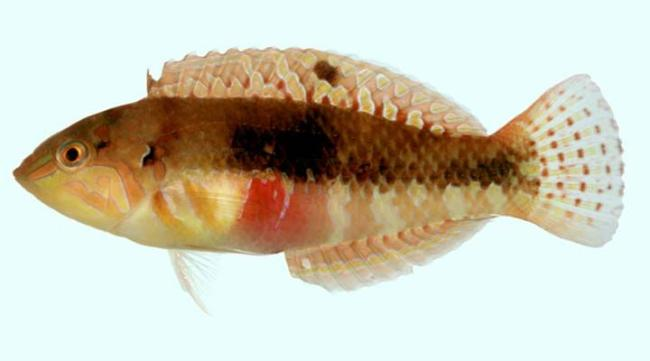fish: (13, 45, 625, 318)
